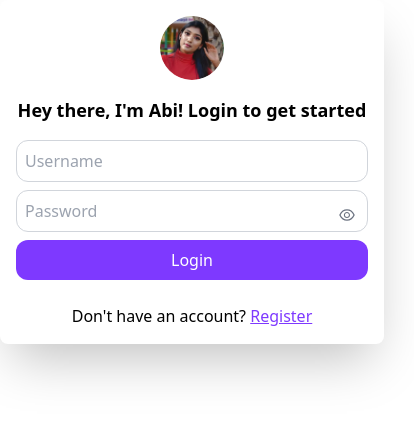
Test: AuthForm Component › displays error message when username or password is empty
Click the button "Login" at (192, 260), box 16,240 -> 368,280
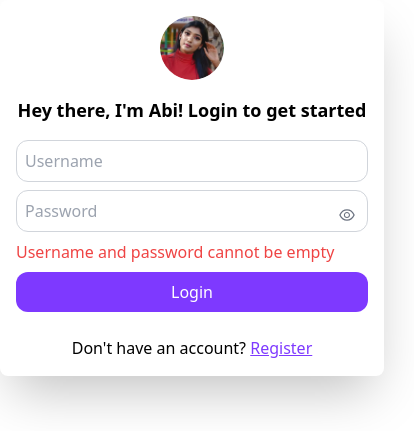
Check: the text "Username and password cannot be empty" is shown, box 16,240 -> 368,264
